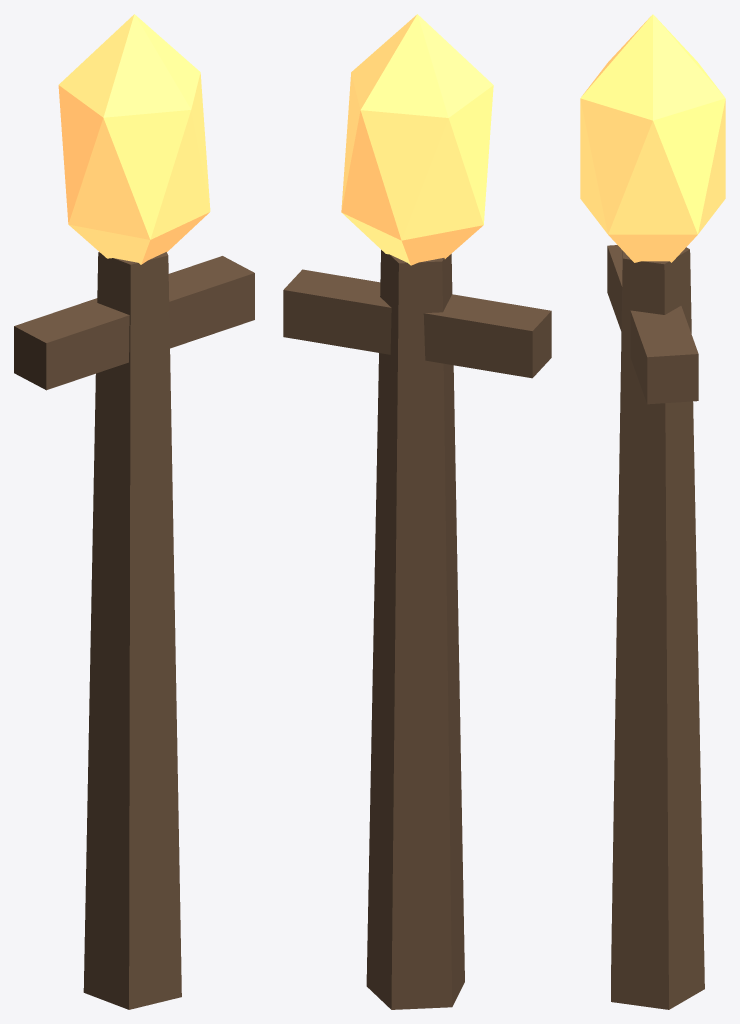
File: df_torch_prop_a.glb
3 renders of one model, left to right at view 1: azimuth 30°, elevation 25°; view 2: azimuth 150°, elevation 25°; view 3: azimuth 270°, elevation 25°, orthographic.
Visible parts, largest first — view 1: post, flame, crossbar; view 2: post, flame, crossbar; view 3: post, flame, crossbar.
Part boxes in pixels (bbox=[...]): post: bbox=[83, 252, 181, 1009]; flame: bbox=[58, 14, 210, 264]; crossbar: bbox=[14, 256, 254, 390]; post: bbox=[366, 250, 464, 1009]; flame: bbox=[341, 14, 493, 265]; crossbar: bbox=[283, 269, 551, 378]; post: bbox=[611, 247, 704, 1009]; flame: bbox=[580, 14, 725, 262]; crossbar: bbox=[607, 245, 698, 404].
Size of the model in its own units: 0.3664 by 1.45 by 0.196.
